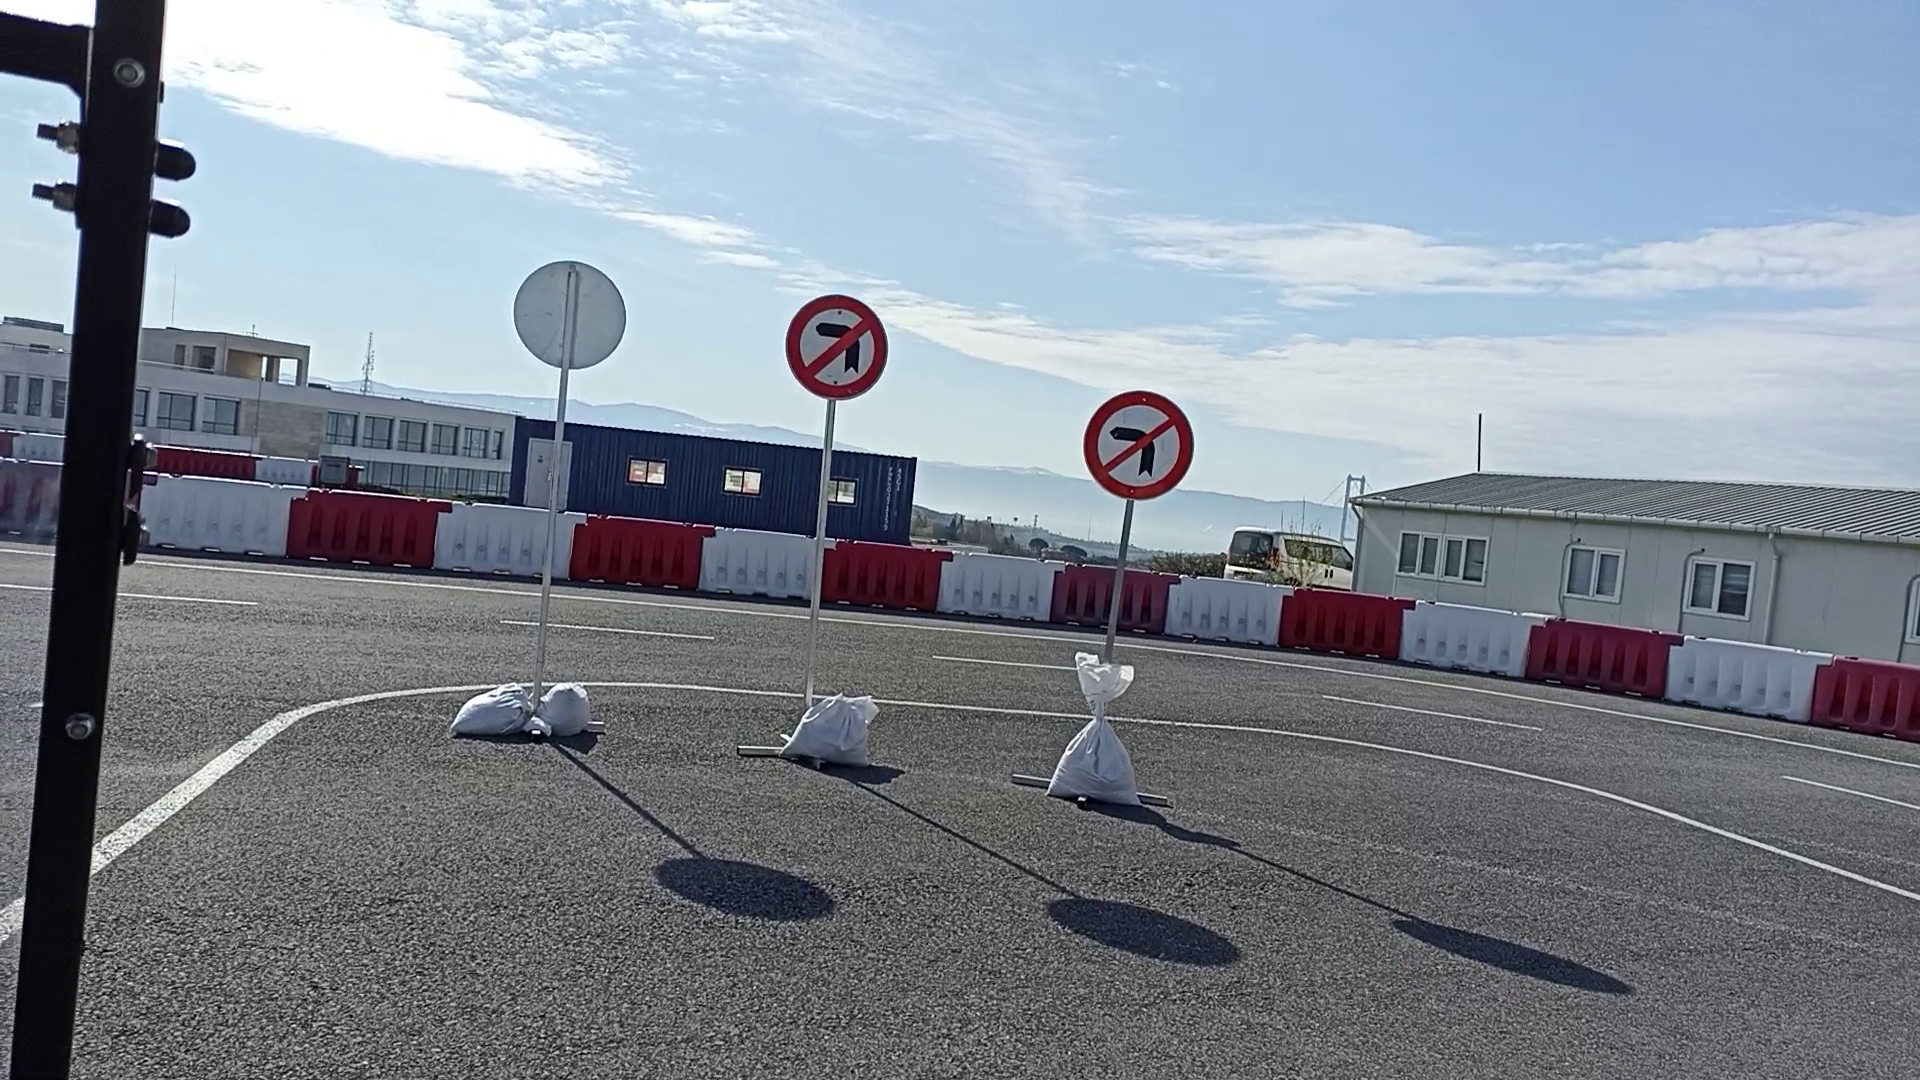noleft: (1079, 386, 1197, 502), (785, 293, 891, 401)
